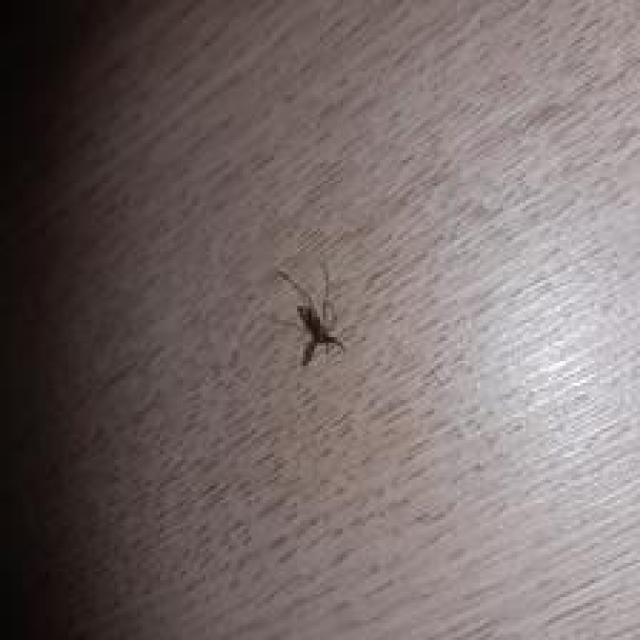Culex: (274, 260, 346, 369)
